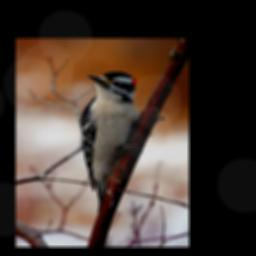Woodpecker: (81, 71, 144, 212)
